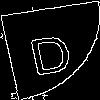D: (24, 24, 76, 76)
